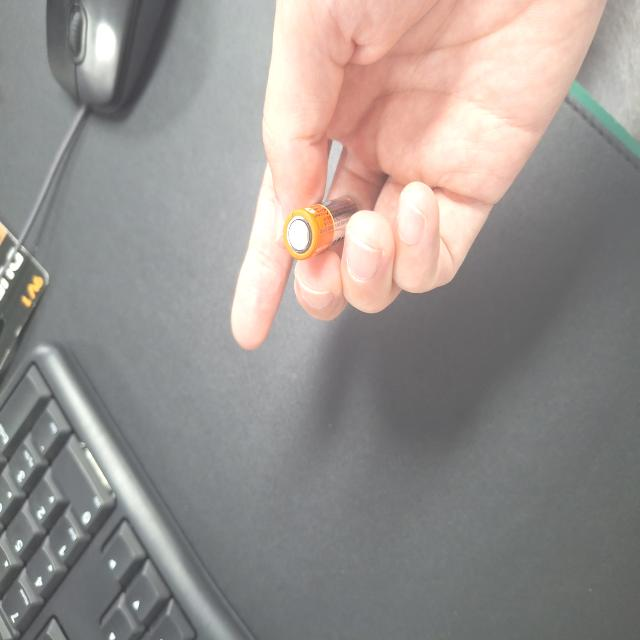AAA: (286, 378, 332, 476)
